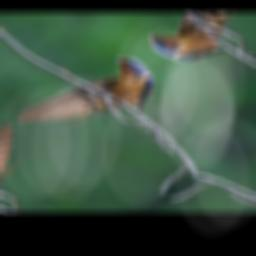Swallow: (12, 44, 181, 163)
